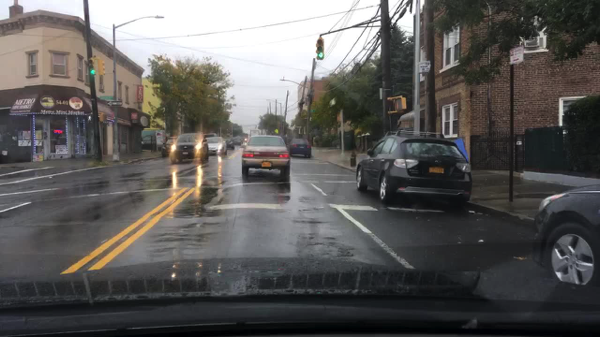car: (352, 131, 473, 206), (529, 183, 598, 296), (240, 135, 290, 182), (171, 132, 208, 164), (289, 139, 312, 161), (206, 137, 226, 154), (141, 133, 160, 149), (162, 137, 174, 155), (226, 139, 237, 150), (233, 135, 242, 145), (206, 132, 217, 137)
person: (157, 132, 164, 152)
traffic light: (392, 97, 406, 111), (88, 58, 96, 76), (98, 60, 107, 76), (317, 38, 323, 59), (99, 111, 108, 123), (86, 112, 93, 121)
traffic sign: (507, 46, 522, 66), (98, 95, 114, 102), (107, 99, 123, 105), (310, 108, 316, 115), (274, 126, 280, 133)
